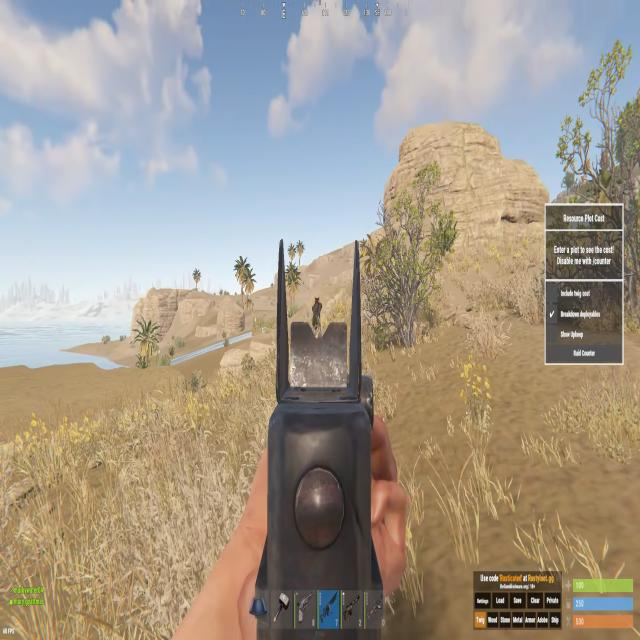Player: (312, 296, 322, 326)
